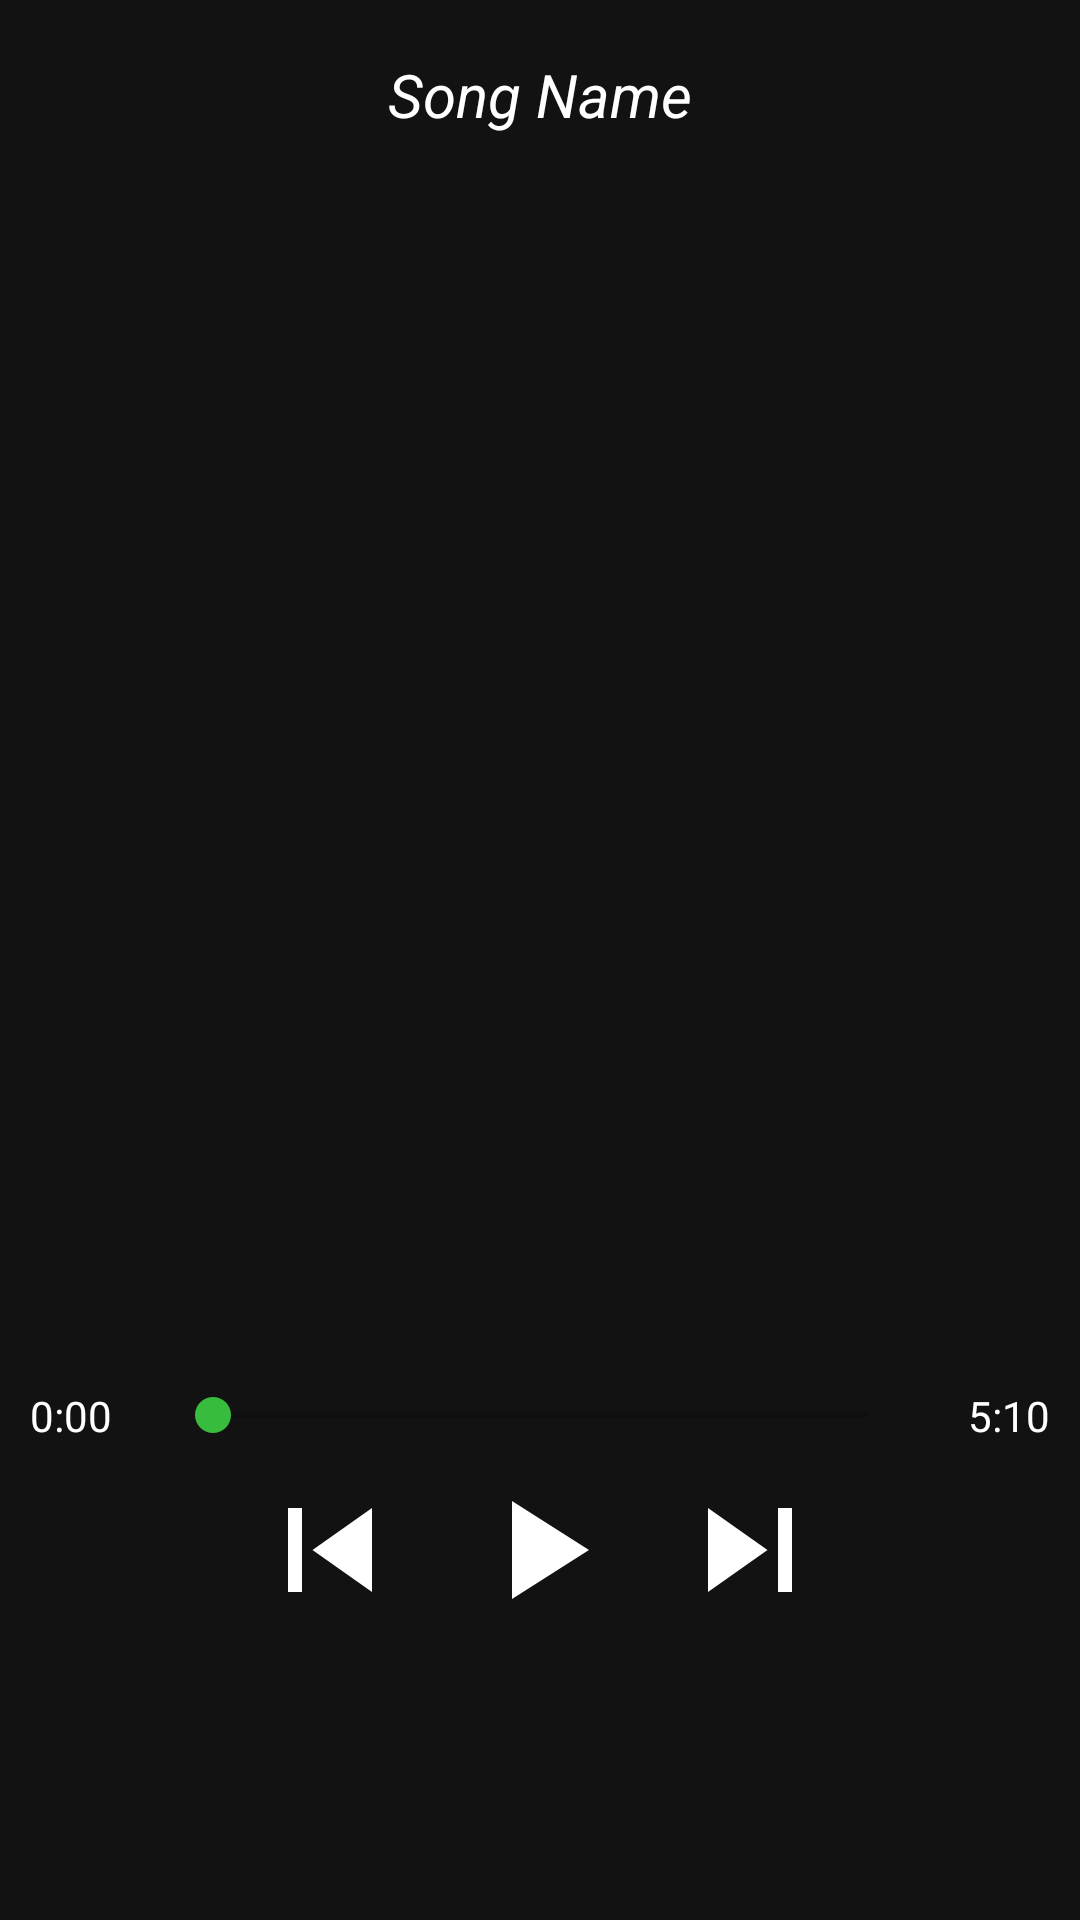

Icons on this 1080 x 1920 Android screen, each with its box as (x1, y1, x2, y2):
next: (708, 1508, 792, 1592)
play: (512, 1501, 589, 1599)
previous: (288, 1508, 372, 1592)
